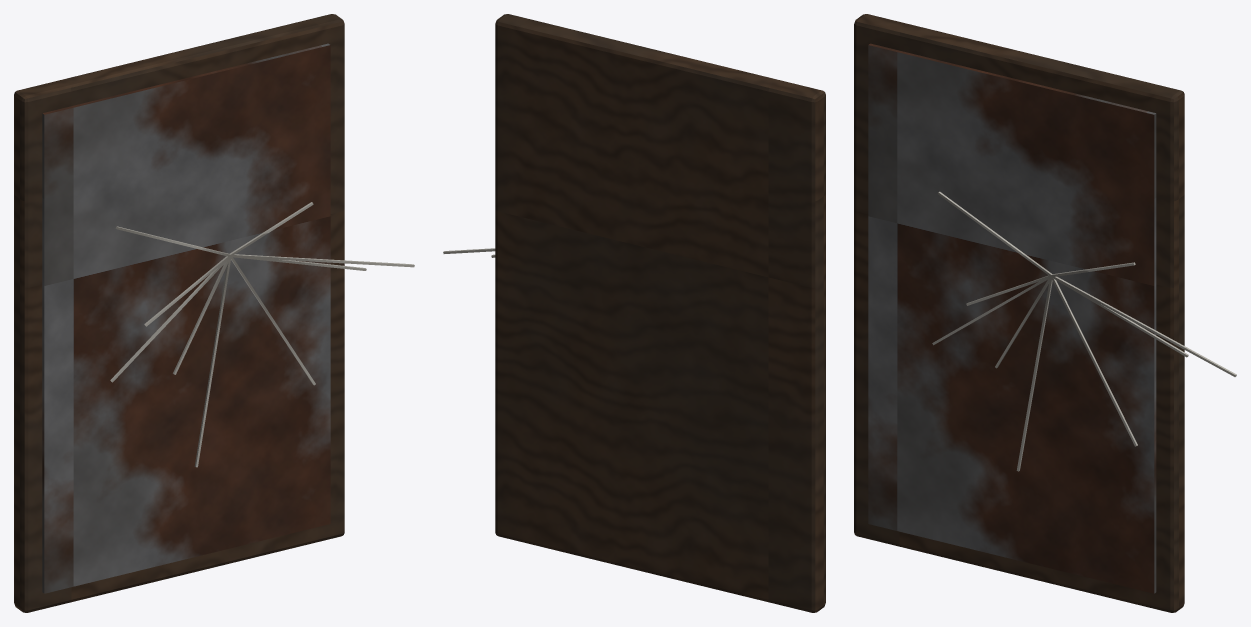
Rendered from BR08_cracked_mirror_v2.glb.
3 views of the same model, side by side, from view 1: azimuth 30°, elevation 25°; view 2: azimuth 150°, elevation 25°; view 3: azimuth 330°, elevation 25° (orthographic).
Parts seen in each view (by area): view 1: BR08_cracked_mirror_v2; view 2: BR08_cracked_mirror_v2; view 3: BR08_cracked_mirror_v2.
Boxes of the visible parts, left/top/right/bottom form: BR08_cracked_mirror_v2: left=14, top=14, right=414, bottom=612; BR08_cracked_mirror_v2: left=443, top=14, right=825, bottom=612; BR08_cracked_mirror_v2: left=854, top=14, right=1236, bottom=612.
Size of the model in its own units: 0.7835 by 1 by 0.0547.
Materials: 3 (3 with a texture image).
